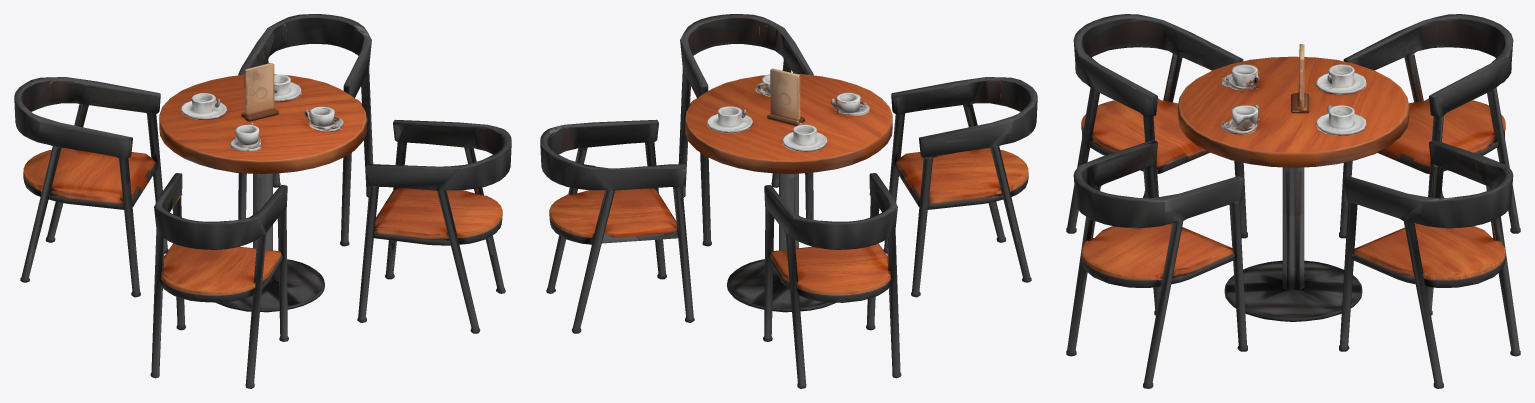
The model's file is Meshy_AI_Coffee_Contemplation_0107201025_texture.fbx.
3 views of the same model, side by side, from view 1: azimuth 30°, elevation 25°; view 2: azimuth 150°, elevation 25°; view 3: azimuth 270°, elevation 25° (orthographic). The views are drawn at different scales.
Parts seen in each view (by area): view 1: Mesh_0; view 2: Mesh_0; view 3: Mesh_0.
Part boxes in pixels (<box>): Mesh_0: <box>14,14,511,388</box>; Mesh_0: <box>540,14,1037,388</box>; Mesh_0: <box>1066,14,1520,388</box>.
Size of the model in its own units: 190 by 112 by 190.
1 material, 1 textured.
